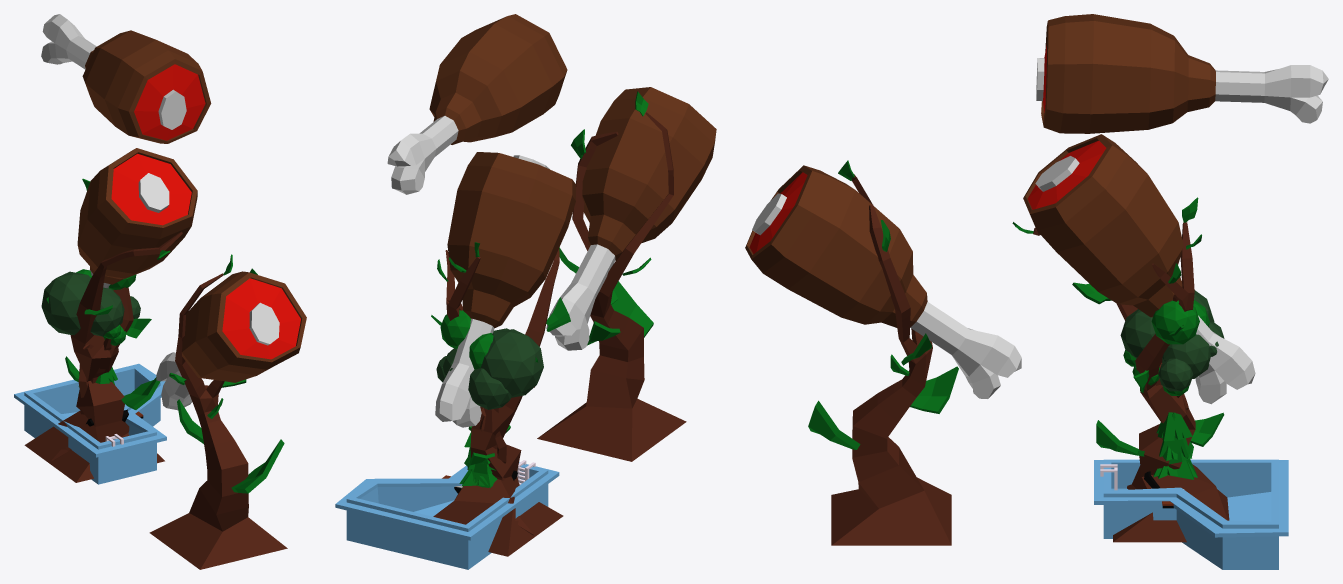
The model's file is assets_cenário.fbx.
The picture shows the model from 3 angles, left to right: view 1: azimuth 30°, elevation 25°; view 2: azimuth 150°, elevation 25°; view 3: azimuth 270°, elevation 25°; orthographic projection. The views are drawn at different scales.
Visible parts, largest first — view 1: Meat_tower_1, Meat_tower2, Meat, Pool, lp_tree_1_1, lp_tree_1_2; view 2: Meat_tower_1, Meat_tower2, Meat, Pool, lp_tree_1_1, lp_tree_1_2; view 3: Meat_tower_1, Meat_tower2, Meat, Pool, lp_tree_1_1, lp_tree_1_2, lp_tree_2_2, lp_tree_2_1.
Boxes of the visible parts, bbox=[...] form: Meat_tower_1: bbox=[149, 254, 306, 569]; Meat_tower2: bbox=[24, 148, 197, 482]; Meat: bbox=[41, 14, 211, 143]; Pool: bbox=[14, 363, 166, 484]; lp_tree_1_1: bbox=[41, 271, 140, 462]; lp_tree_1_2: bbox=[76, 269, 126, 399]; Meat_tower_1: bbox=[537, 87, 716, 461]; Meat_tower2: bbox=[431, 152, 575, 556]; Meat: bbox=[387, 14, 567, 194]; Pool: bbox=[335, 460, 559, 569]; lp_tree_1_1: bbox=[436, 303, 543, 535]; lp_tree_1_2: bbox=[442, 328, 511, 463]; Meat_tower_1: bbox=[745, 160, 1021, 545]; Meat_tower2: bbox=[1012, 134, 1255, 542]; Meat: bbox=[1036, 14, 1328, 133]; Pool: bbox=[1094, 459, 1288, 569]; lp_tree_1_1: bbox=[1123, 290, 1218, 409]; lp_tree_1_2: bbox=[1120, 300, 1224, 395]; lp_tree_2_2: bbox=[1156, 412, 1197, 478]; lp_tree_2_1: bbox=[1153, 412, 1193, 479].
Size of the model in its own units: 4667 by 13412 by 13772.
